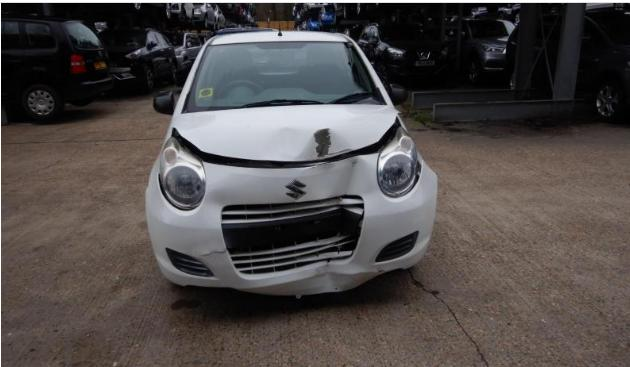Front-bumper: (145, 131, 438, 295)
Grille: (221, 196, 365, 280)
Headlight: (159, 136, 206, 211), (377, 126, 418, 198)
Hood: (174, 104, 397, 162)
License-plate: (258, 273, 338, 297)
Mirror: (154, 91, 173, 115), (390, 85, 407, 106)
Roof: (208, 31, 351, 43)
Windshield: (181, 42, 385, 112)
